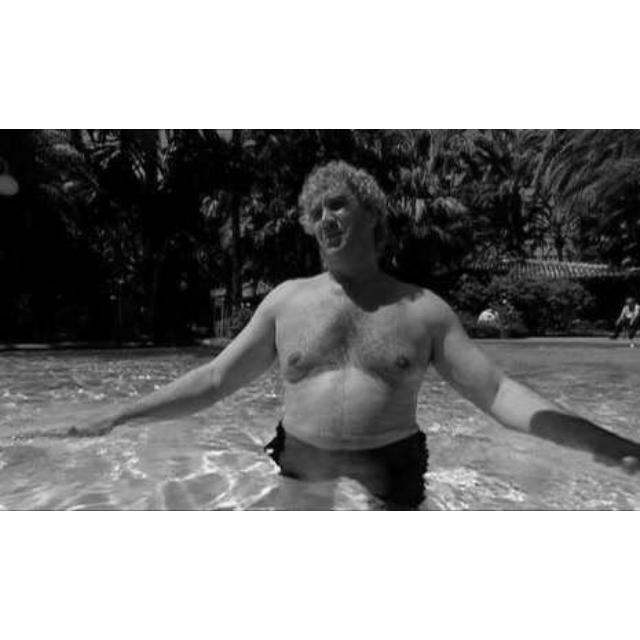human: (83, 162, 639, 510)
